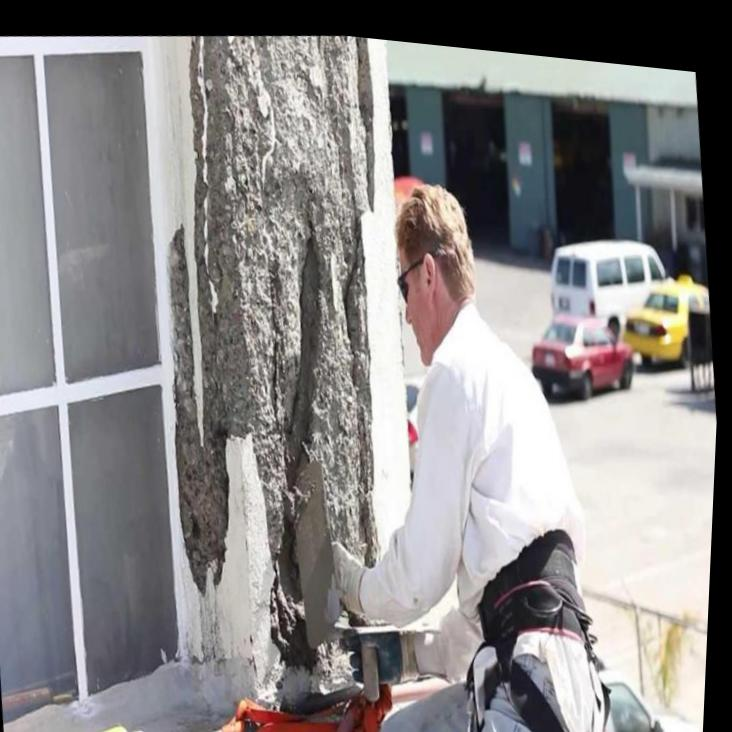damage: (165, 28, 381, 683)
